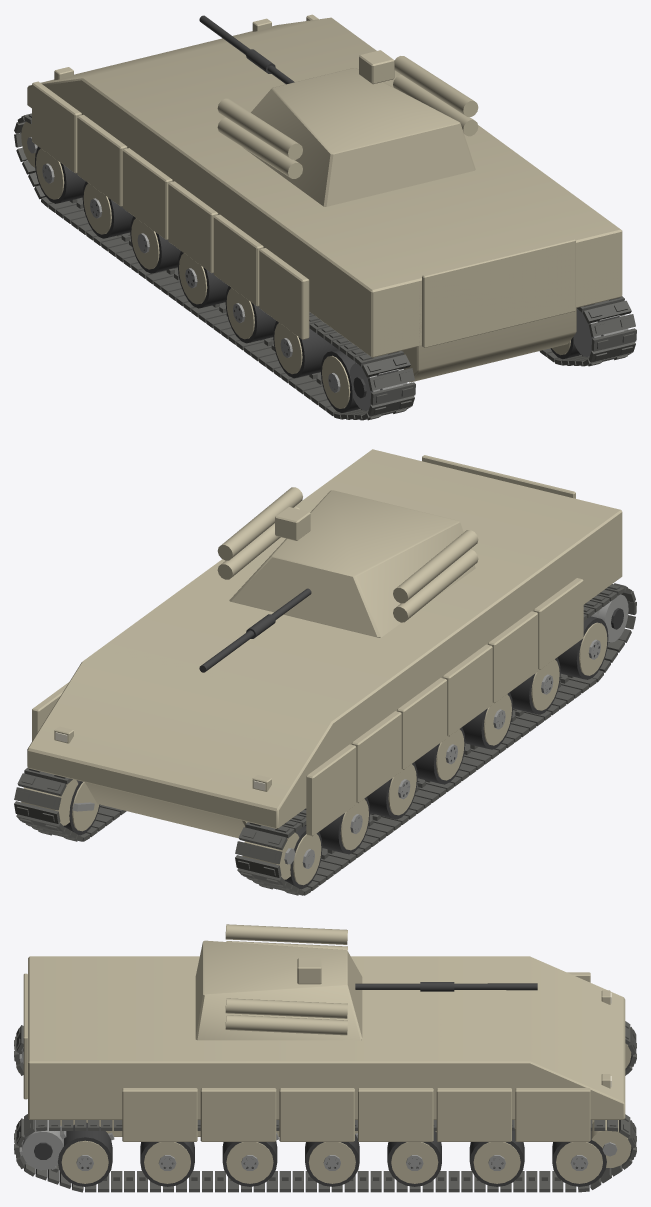
Rendered from rus_ifv_kurg.glb.
3 views of the same model, one above another, from view 1: azimuth 30°, elevation 25°; view 2: azimuth 150°, elevation 25°; view 3: azimuth 270°, elevation 25° (orthographic). The views are drawn at different scales.
Parts seen in each view (by area): view 1: body, turret, barrel; view 2: body, turret, barrel; view 3: body, turret, barrel.
Boxes of the visible parts, box(x1,y1,x2,y2) form: body: box(14, 14, 636, 420); turret: box(217, 50, 478, 206); barrel: box(199, 15, 294, 84); body: box(14, 449, 636, 895); turret: box(217, 487, 478, 637); barrel: box(199, 588, 311, 672); body: box(14, 956, 636, 1192); turret: box(195, 924, 362, 1040); barrel: box(355, 982, 537, 991).
Size of the model in its own units: 3.7 by 2.8 by 8.19.
